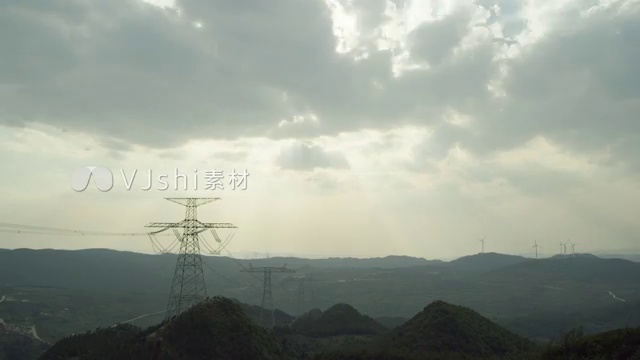tower_body: (137, 188, 237, 322)
tower_foot: (162, 286, 208, 316)
tower_head: (160, 192, 228, 209)
